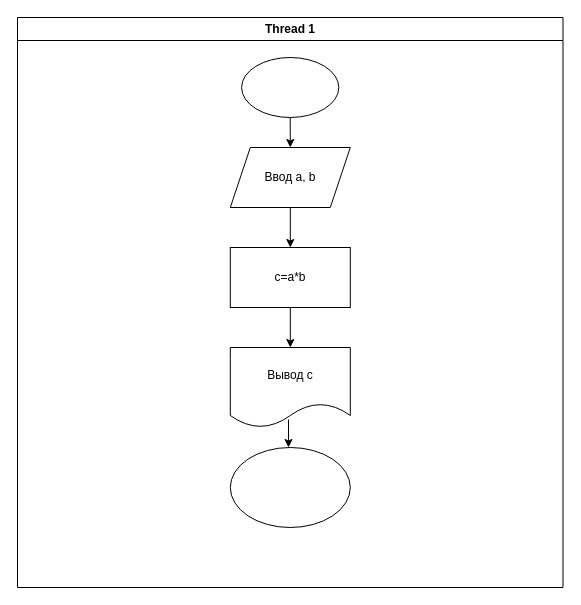
Some shapes in this 581 by 605 pixel diagram are drawn without their labels. The centre of each missing label's shape, as x and y in pixels:
Конец: the point at 289,487
Начало: the point at 290,87
